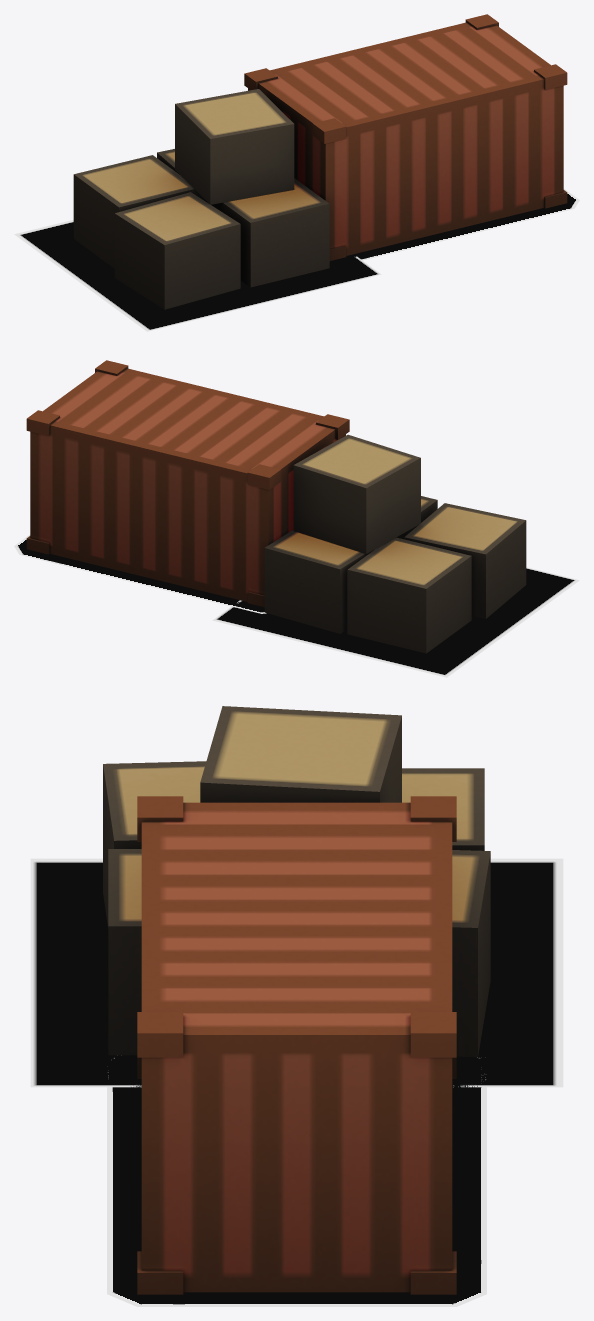
Rendered from 5x2_container.FBX.
3 renders of one model, top to bottom at view 1: azimuth 30°, elevation 25°; view 2: azimuth 150°, elevation 25°; view 3: azimuth 270°, elevation 25°, orthographic. The views are drawn at different scales.
Visible parts, largest first — view 1: 5x2_container, 5x2_container_soft_shadow_2, 5x2_container_soft_shadow; view 2: 5x2_container, 5x2_container_soft_shadow_2, 5x2_container_soft_shadow; view 3: 5x2_container, 5x2_container_soft_shadow_2, 5x2_container_soft_shadow.
Part boxes in pixels (x1,y1,x2,y2): 5x2_container: (73,14,567,309); 5x2_container_soft_shadow_2: (14,220,381,331); 5x2_container_soft_shadow: (329,188,579,263); 5x2_container: (26,360,526,653); 5x2_container_soft_shadow_2: (212,567,579,677); 5x2_container_soft_shadow: (14,534,266,613); 5x2_container: (103,706,490,1294); 5x2_container_soft_shadow_2: (30,858,563,1087); 5x2_container_soft_shadow: (107,1056,486,1306).
Size of the model in its own units: 5148 by 1411 by 2584.
